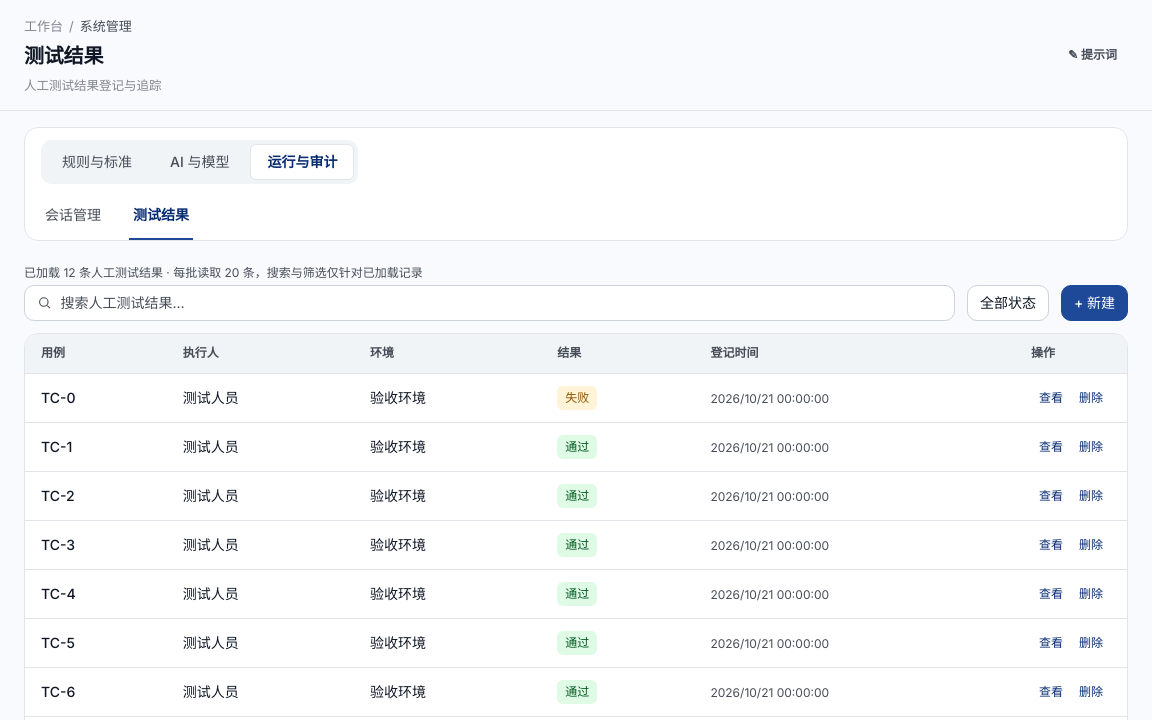
Scenario: 人工测试结果统一列表 › ten row list searches and filters with full read-only details and screenshot
Expected: the button "+ 新建" is enabled, top-left (1061, 284), bottom-right (1128, 320)
Click the button with aria-label "查看 TC-0" at (1051,398), box top-left (1031, 382), bottom-right (1071, 414)
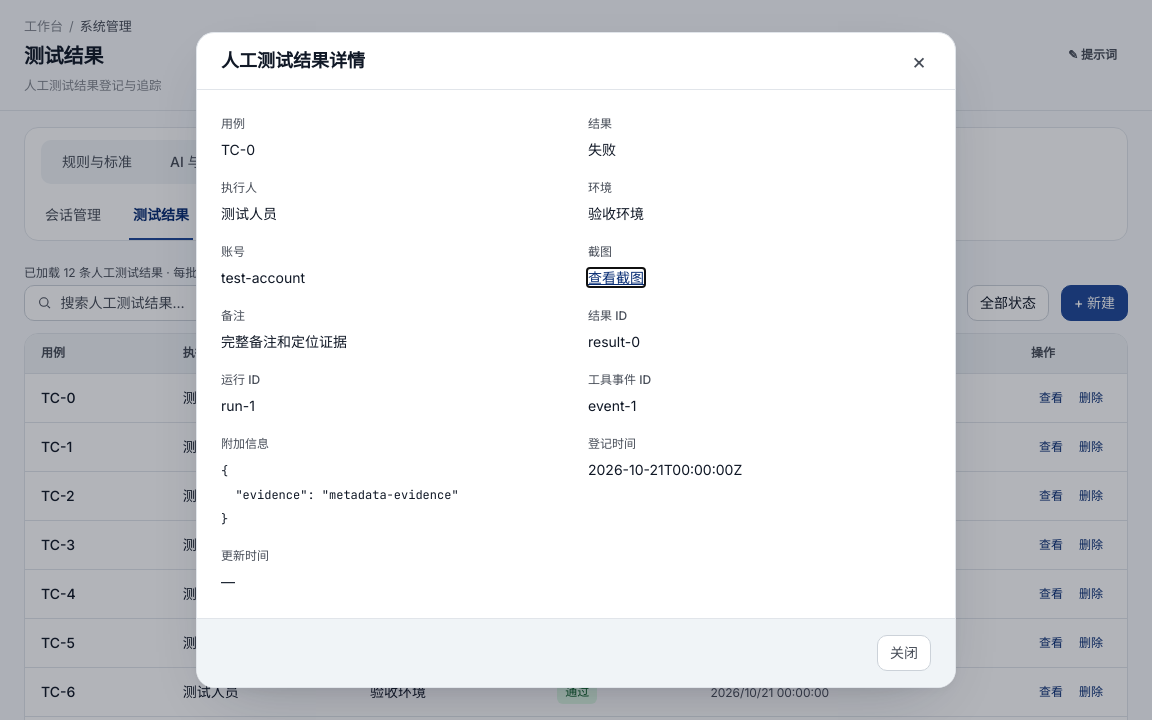
Result: the text "完整备注和定位证据" is shown at top-left (221, 333), bottom-right (347, 350)
Result: the text "test-account" is shown at top-left (221, 269), bottom-right (305, 286)
Result: the text "run-1" is shown at top-left (221, 397), bottom-right (255, 414)
Click the button "关闭" at (904,653), box top-left (877, 635), bottom-right (931, 671)
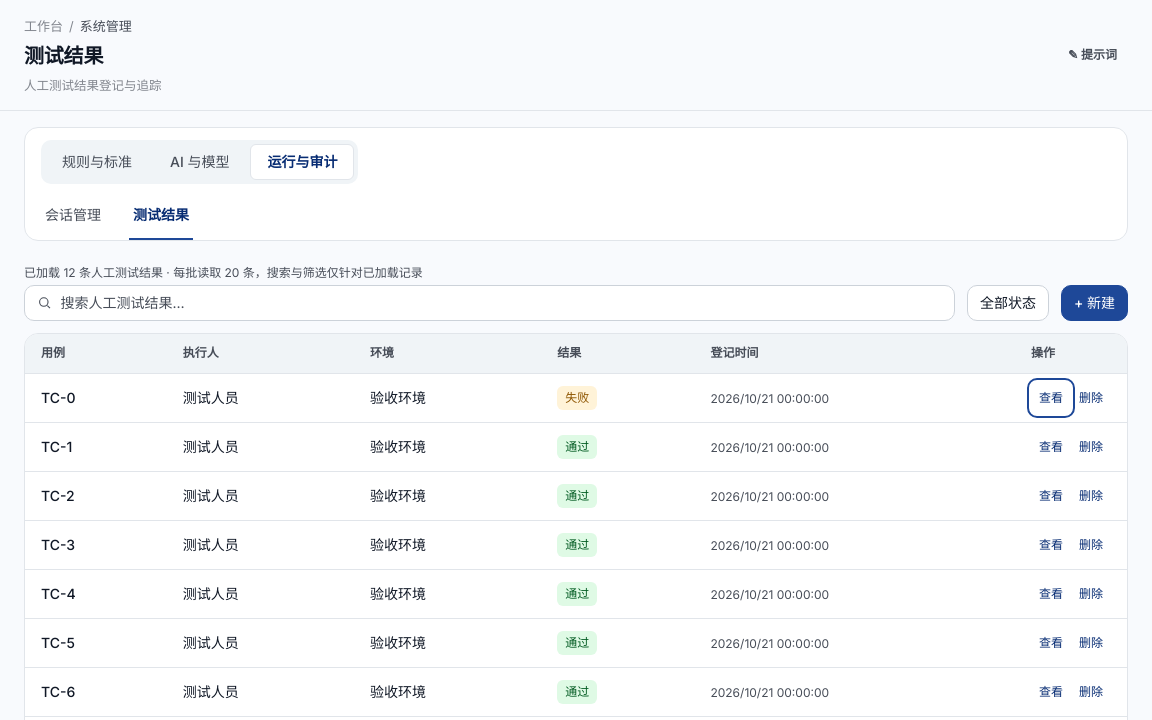
Select "失败" in the dropdown named "筛选人工测试结果" at (1008,302), box top-left (967, 284), bottom-right (1049, 320)
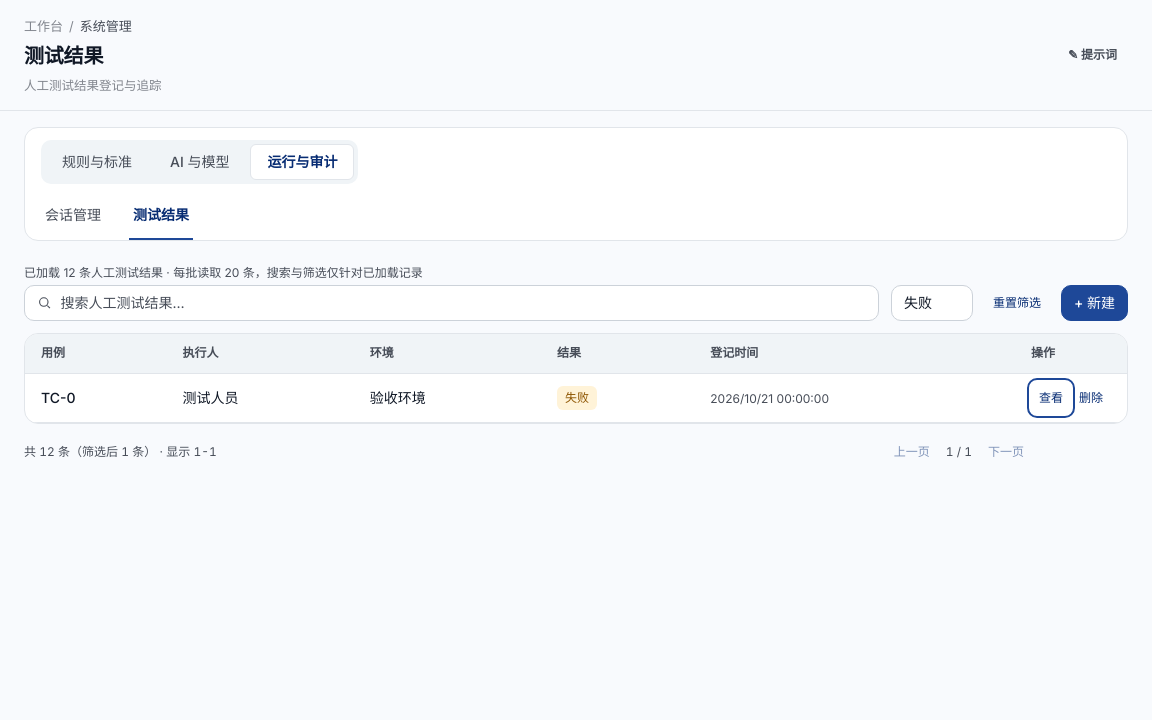
Expected: the number of rows is 2, top-left (25, 334), bottom-right (1127, 374); top-left (25, 374), bottom-right (1127, 422)
Type "no-match" into the search field labelled "搜索人工测试结果" at (463,302), box top-left (60, 286), bottom-right (866, 320)
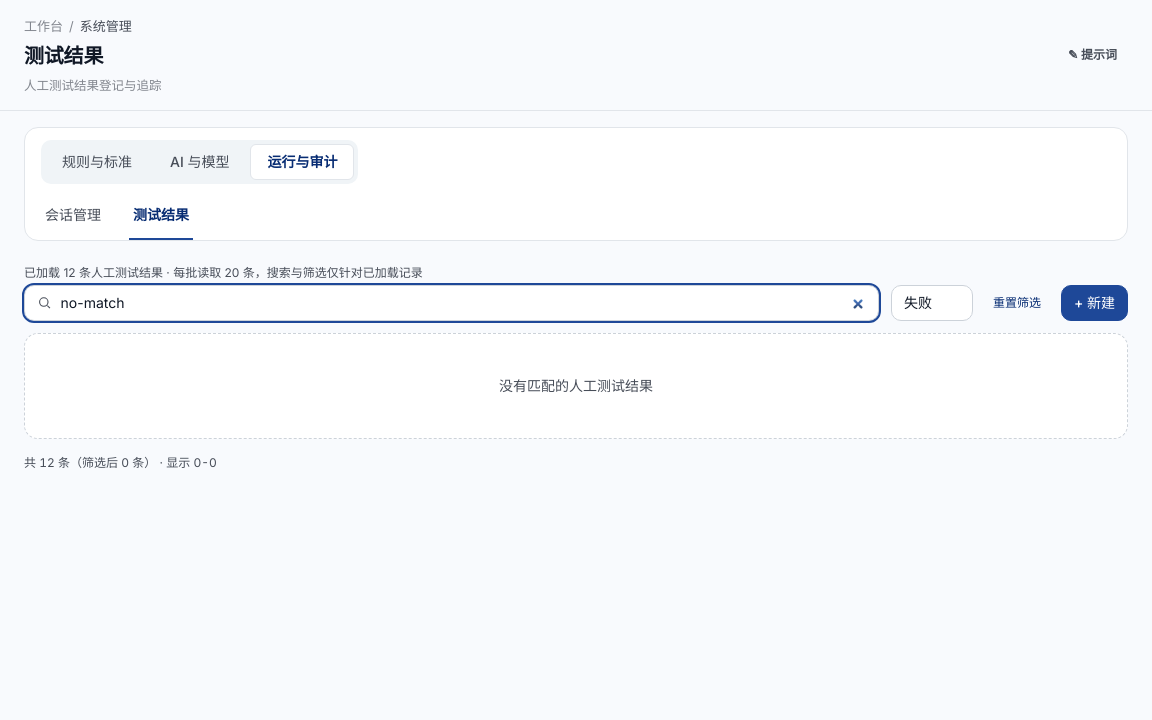
Result: the text "没有匹配的人工测试结果" is shown at top-left (24, 332), bottom-right (1128, 438)
